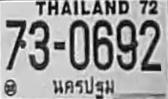0: (68, 19, 88, 69)
2: (139, 20, 160, 70)
3: (28, 20, 49, 70)
6: (92, 19, 112, 69)
7: (4, 20, 26, 70)
9: (116, 19, 137, 69)
NPT: (50, 72, 119, 99)
